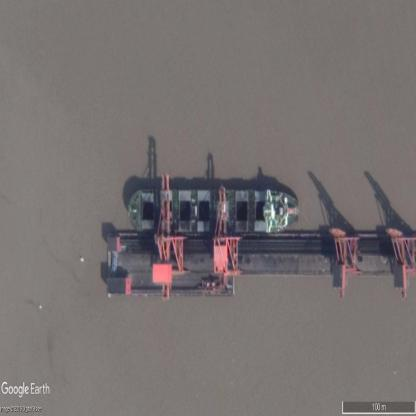ship: (128, 189, 299, 233)
